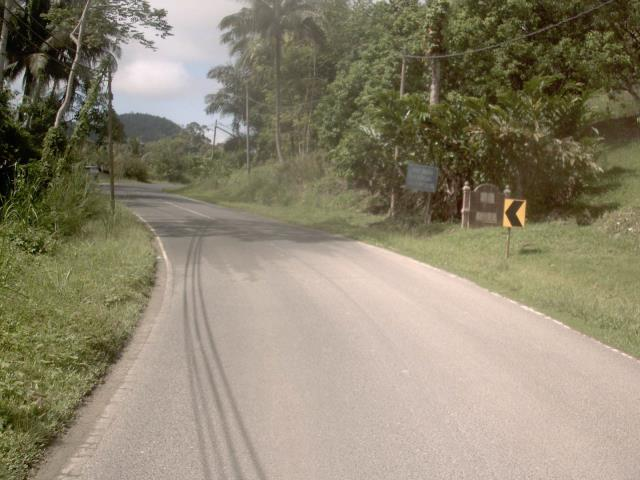traffic_sign: (496, 190, 534, 237)
